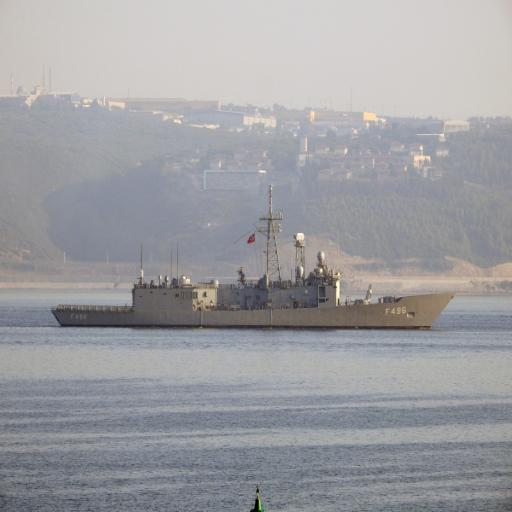Fragata: (54, 179, 460, 336)
